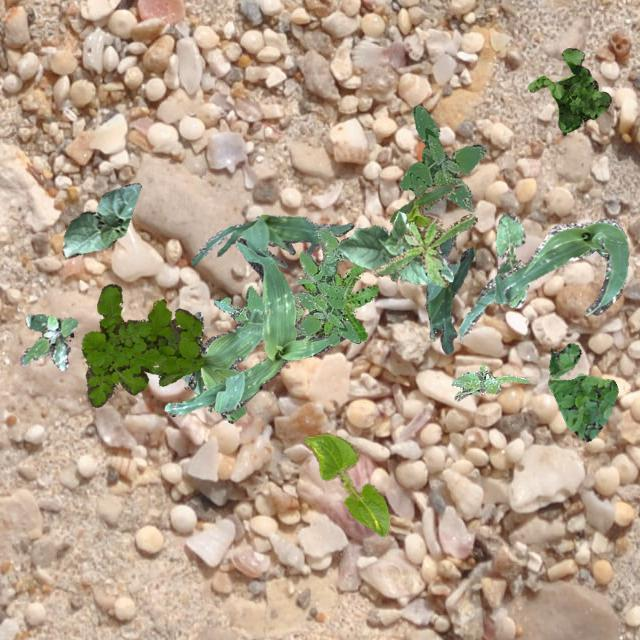crop: (163, 238, 344, 416), (458, 218, 628, 342), (182, 308, 262, 422), (304, 432, 389, 536), (190, 214, 352, 268), (336, 210, 452, 284), (388, 182, 464, 280), (424, 234, 474, 352), (61, 182, 140, 256), (495, 212, 527, 306)
weed: (80, 283, 204, 407), (400, 104, 486, 210), (290, 227, 360, 346), (374, 212, 476, 286), (526, 46, 610, 134), (546, 342, 618, 441), (300, 262, 378, 340), (212, 284, 302, 328), (18, 312, 76, 370), (451, 364, 528, 399)
